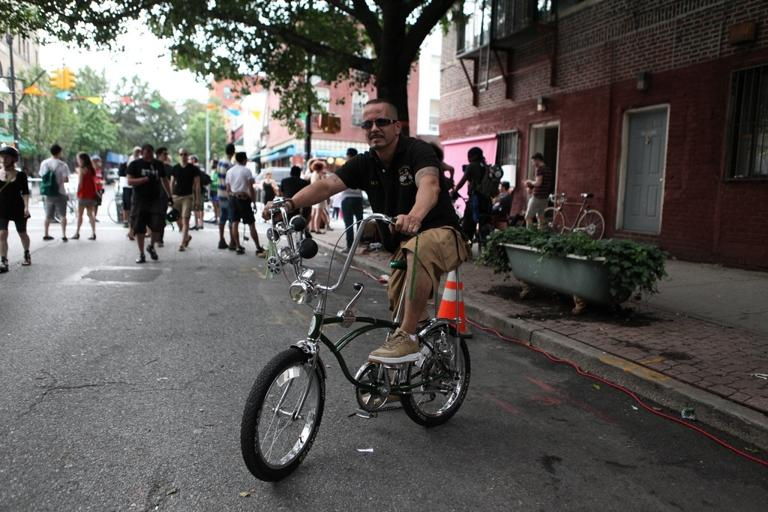non-vehicle: (238, 193, 475, 482), (537, 188, 605, 242), (53, 187, 77, 225), (107, 184, 125, 223)
